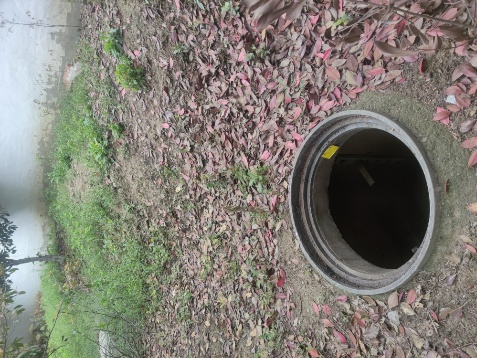lose: (288, 109, 436, 295)
